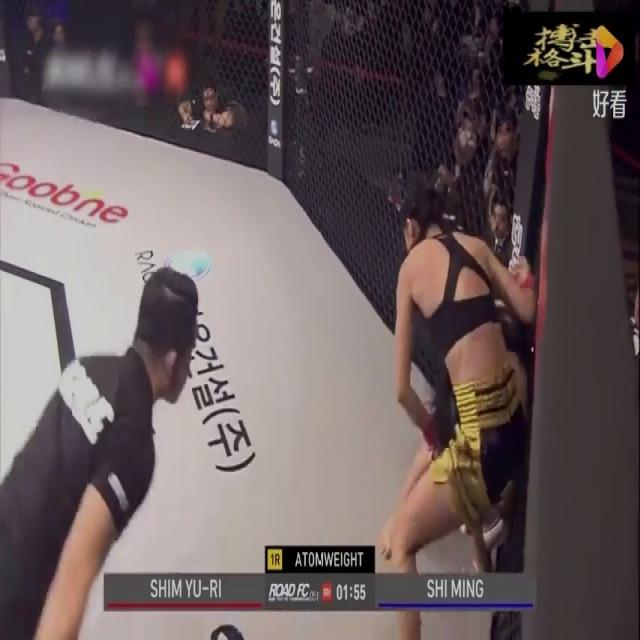fight: (377, 166, 554, 638)
non-fight: (0, 268, 200, 638)
